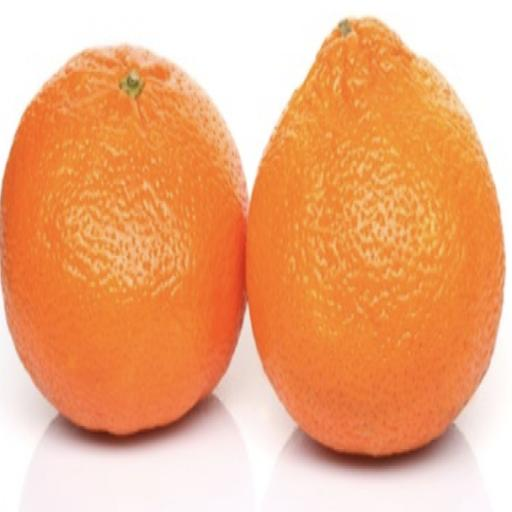orange: (246, 19, 504, 455), (1, 46, 247, 433)
